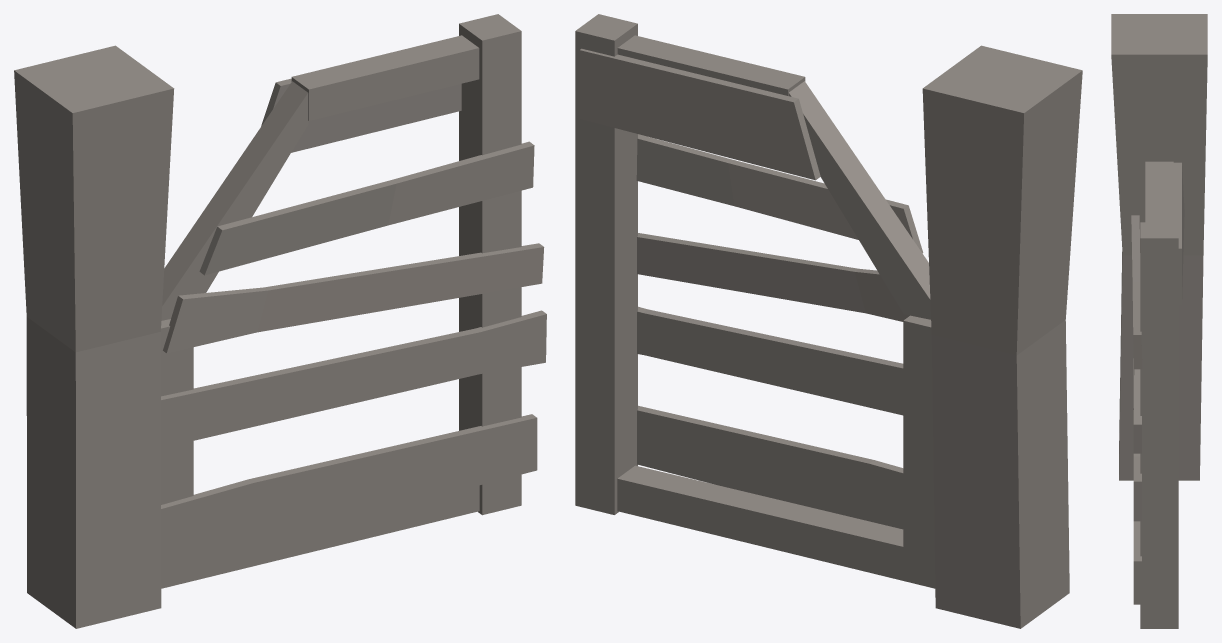
File: Entrance Tile.fbx
3 views of the same model, side by side, from view 1: azimuth 30°, elevation 25°; view 2: azimuth 150°, elevation 25°; view 3: azimuth 270°, elevation 25° (orthographic). The views are drawn at different scales.
Visible parts, largest first — view 1: Door's tile, Entrance Tile; view 2: Door's tile, Entrance Tile; view 3: Entrance Tile, Door's tile.
Part boxes in pixels (x1,y1,x2,y2): Door's tile: (160,14,546,588); Entrance Tile: (14,45,174,628); Door's tile: (575,14,935,588); Entrance Tile: (922,45,1082,628); Entrance Tile: (1111,14,1207,480); Door's tile: (1131,161,1184,628).
Size of the model in its own units: 223 by 228 by 46.43.
